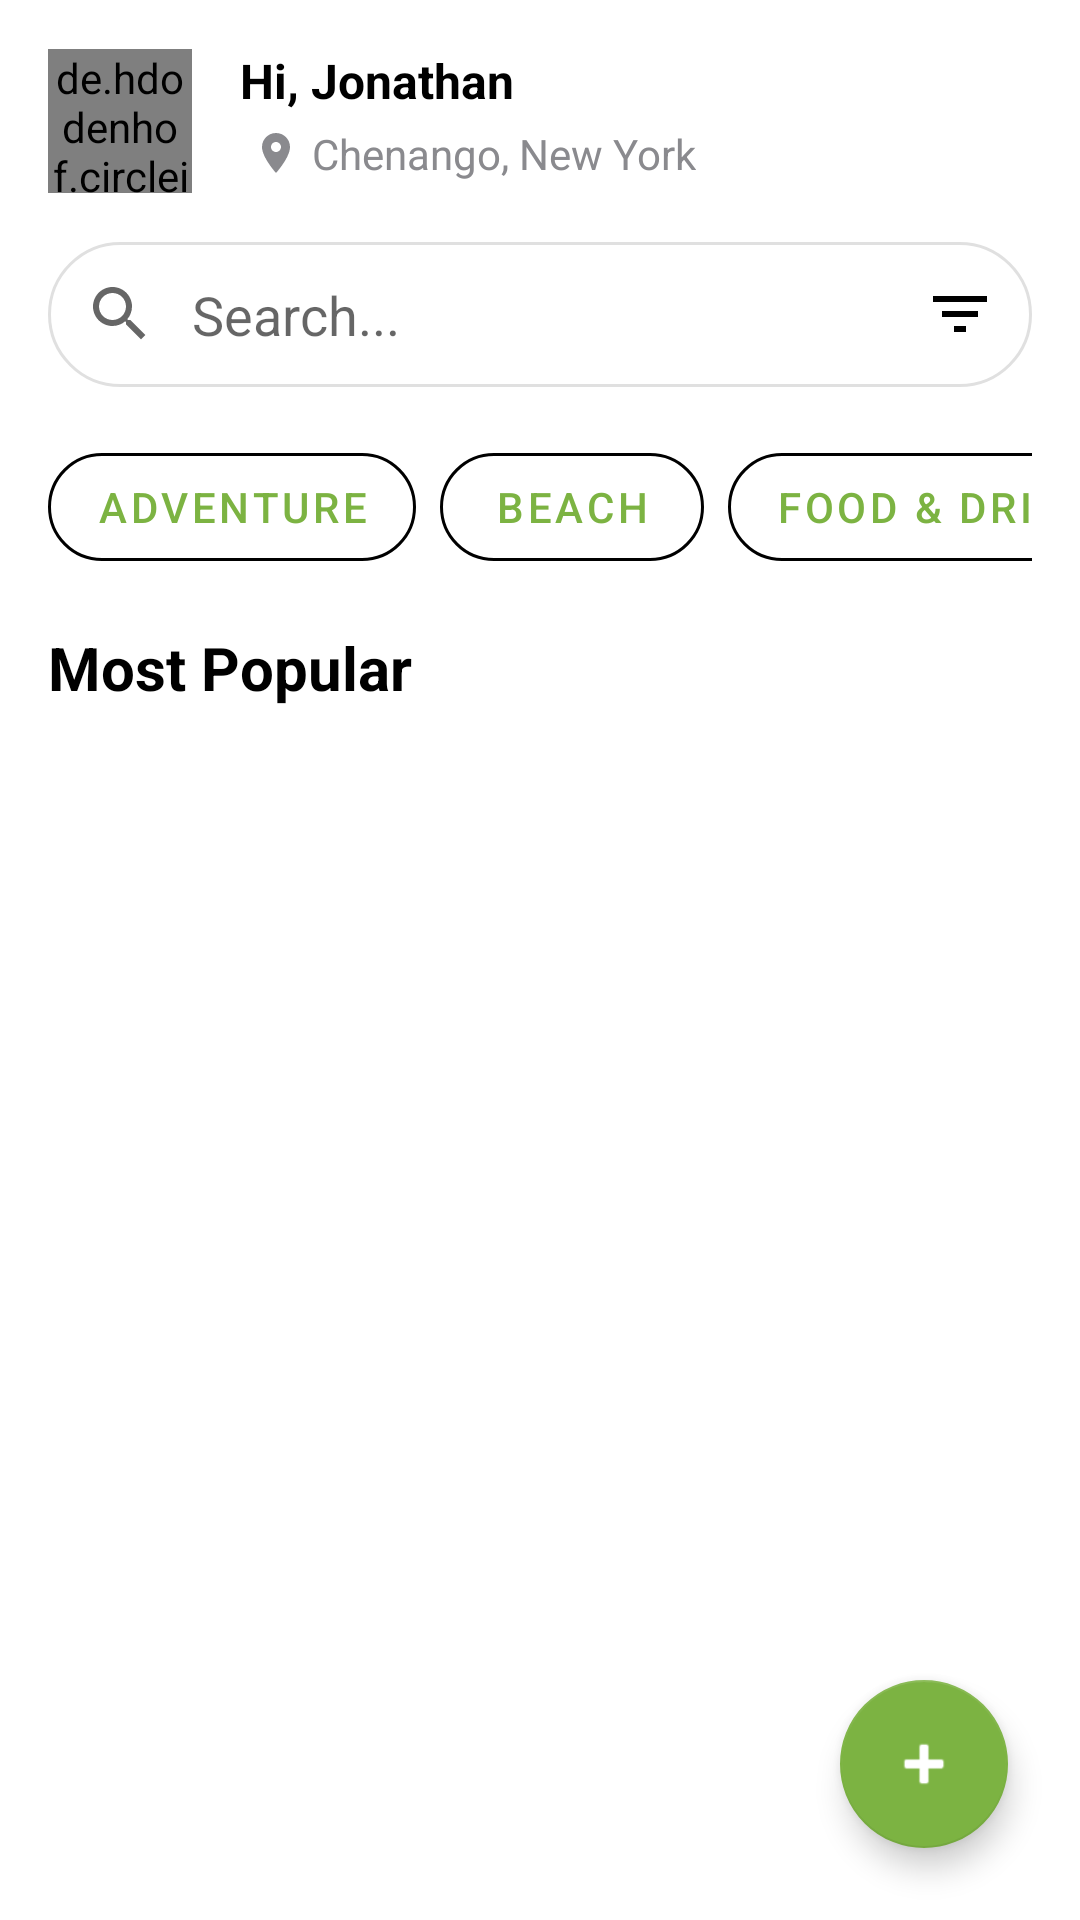

Icons on this 1080×1920 Android screen, each with its box as (x1, y1, x2, y2):
filter: (933, 296, 987, 332)
location: (262, 133, 290, 173)
